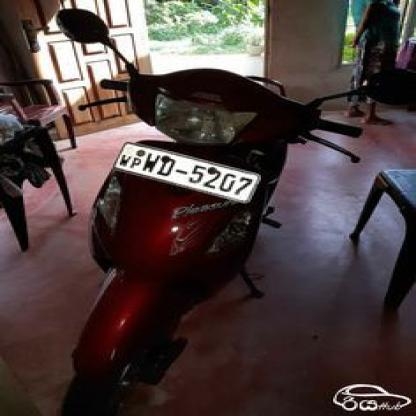bike front: (41, 4, 356, 416)
number plate: (111, 141, 254, 205)
